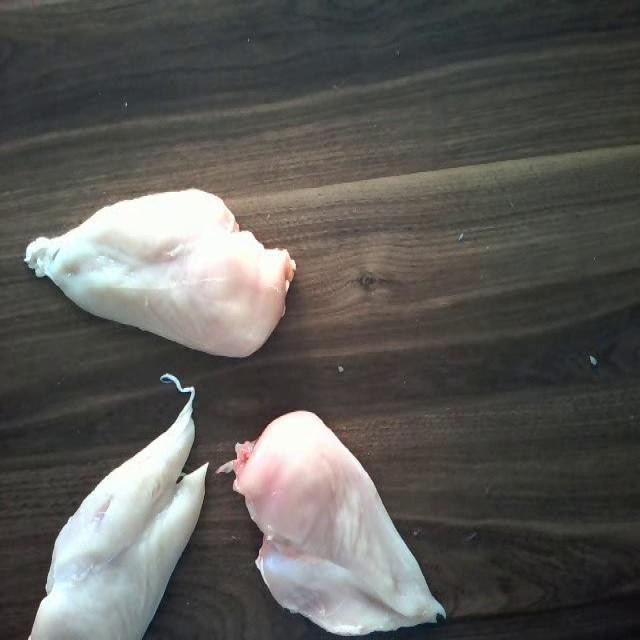breast: (237, 409, 441, 636), (29, 193, 289, 355), (43, 410, 205, 640)
